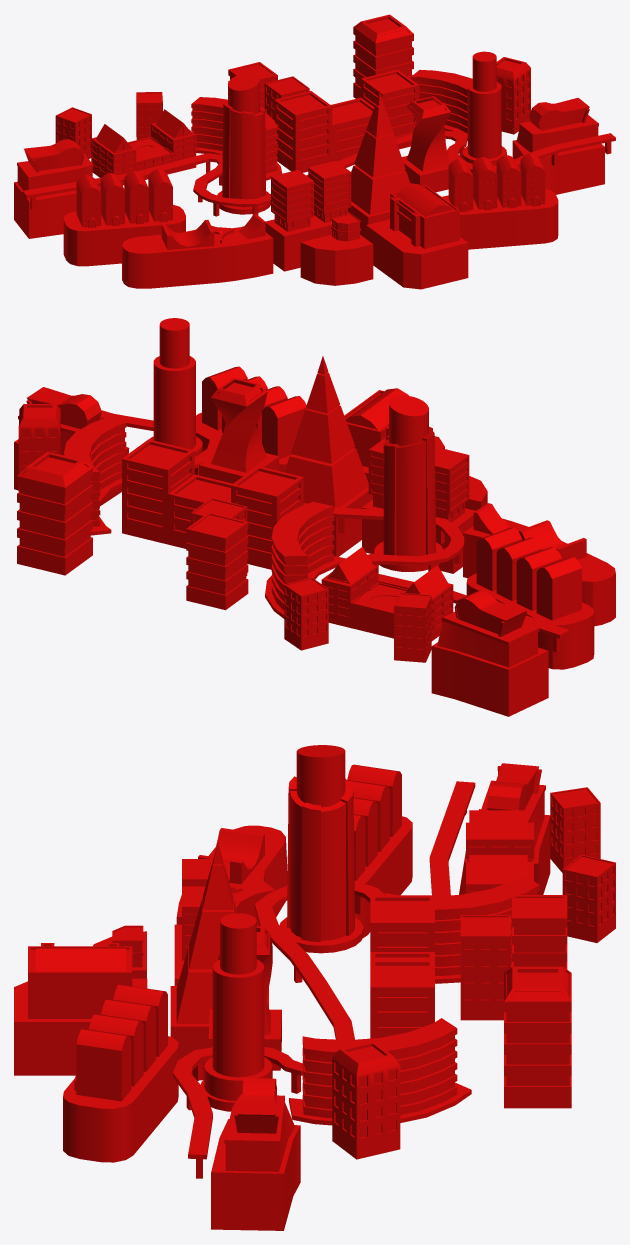
File: Neighborhood_RogCity_02.glb
3 renders of one model, top to bottom at view 1: azimuth 30°, elevation 25°; view 2: azimuth 150°, elevation 25°; view 3: azimuth 270°, elevation 25°, orthographic. The views are drawn at different scales.
Visible parts, largest first — view 1: pCube499, pCube495, pCube498, polySurface310, pCube496, pCube492, pCylinder159, pCube490, pCube497, pCube500, pCube488, pCylinder158 (+14 smaller); view 2: pCube495, pCube490, polySurface310, pCylinder159, pCube484, pCube497, pCube488, pCube481, pCylinder158, pCube489, pCube466, pCube498 (+13 smaller); view 3: pCube499, pCylinder159, pCube496, pCube492, pCube500, pCube484, pCylinder158, pCube480, pCube495, pCube479, polySurface310, pCube497 (+12 smaller).
Part boxes in pixels (left/top/right/bottom): pCube499: left=442, top=153, right=558, bottom=249; pCube495: left=274, top=69, right=419, bottom=172; pCube498: left=122, top=214, right=273, bottom=288; polySurface310: left=63, top=169, right=185, bottom=266; pCube496: left=366, top=183, right=468, bottom=289; pCube492: left=512, top=97, right=604, bottom=194; pCylinder159: left=217, top=73, right=270, bottom=214; pCube490: left=14, top=139, right=100, bottom=238; pCube497: left=348, top=92, right=409, bottom=238; pCube500: left=22, top=130, right=615, bottom=216; pCube488: left=91, top=109, right=196, bottom=185; pCylinder158: left=462, top=51, right=506, bottom=174; pCube495: left=122, top=439, right=303, bottom=569; pCube490: left=431, top=590, right=548, bottom=716; polySurface310: left=466, top=527, right=594, bottom=669; pCylinder159: left=374, top=395, right=443, bottom=571; pCube484: left=17, top=451, right=92, bottom=575; pCube497: left=284, top=356, right=372, bottom=556; pCube488: left=321, top=547, right=453, bottom=641; pCube481: left=186, top=512, right=248, bottom=610; pCylinder158: left=149, top=318, right=202, bottom=456; pCube489: left=265, top=501, right=345, bottom=618; pCube466: left=199, top=378, right=279, bottom=483; pCube498: left=463, top=503, right=615, bottom=626; pCube499: left=63, top=984, right=178, bottom=1162; pCylinder159: left=279, top=745, right=363, bottom=953; pCube496: left=14, top=943, right=147, bottom=1075; pCube492: left=211, top=1078, right=300, bottom=1230; pCube500: left=173, top=781, right=475, bottom=1178; pCube484: left=504, top=966, right=571, bottom=1108; pCylinder158: left=200, top=913, right=276, bottom=1111; pCube480: left=289, top=1018, right=471, bottom=1125; pCube495: left=370, top=895, right=434, bottom=1038; pCube479: left=332, top=1041, right=400, bottom=1159; polySurface310: left=347, top=764, right=412, bottom=938; pCube497: left=170, top=842, right=268, bottom=1080.
Bounding box in the file's own units: 99.11 × 29.76 × 67.46.
